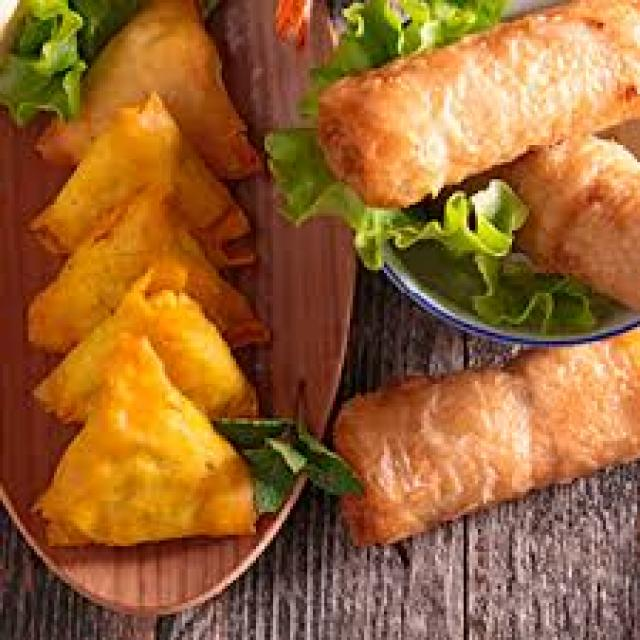Samosa: (41, 0, 278, 553)
Spring Rolls: (304, 6, 638, 549)
